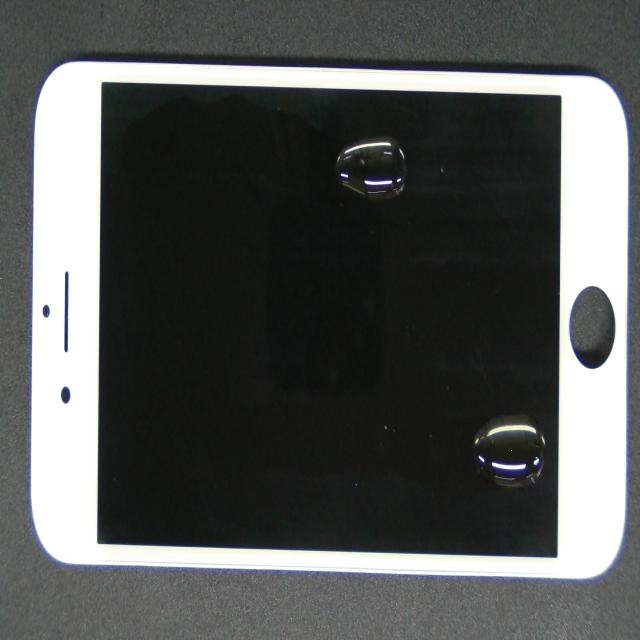oil: (212, 200, 640, 640), (177, 58, 508, 231)
